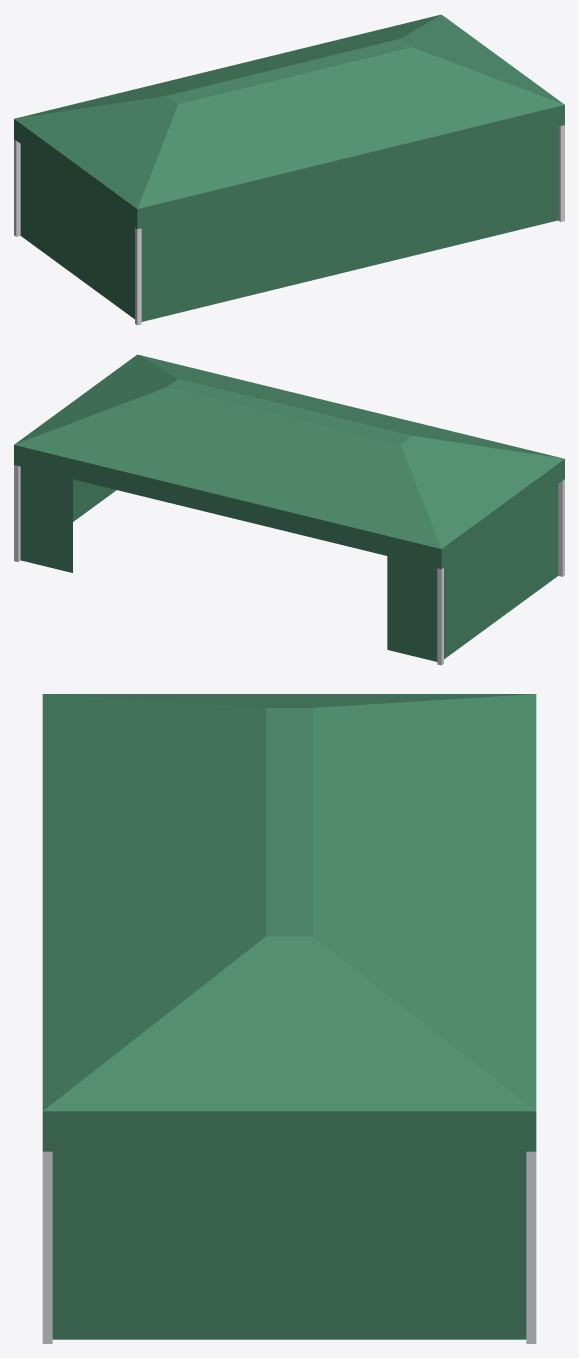
The model's file is kit_tentClosedLong.obj.
The picture shows the model from 3 angles, top to bottom: view 1: azimuth 30°, elevation 25°; view 2: azimuth 150°, elevation 25°; view 3: azimuth 270°, elevation 25°; orthographic projection. The views are drawn at different scales.
Visible parts, largest first — view 1: tentClosedLong; view 2: tentClosedLong; view 3: tentClosedLong.
Boxes of the visible parts, x1=… form: tentClosedLong: x1=14, y1=14, x2=564, y2=325; tentClosedLong: x1=14, y1=354, x2=564, y2=665; tentClosedLong: x1=42, y1=694, x2=536, y2=1343.
Size of the model in its own units: 2 by 0.7 by 1.
